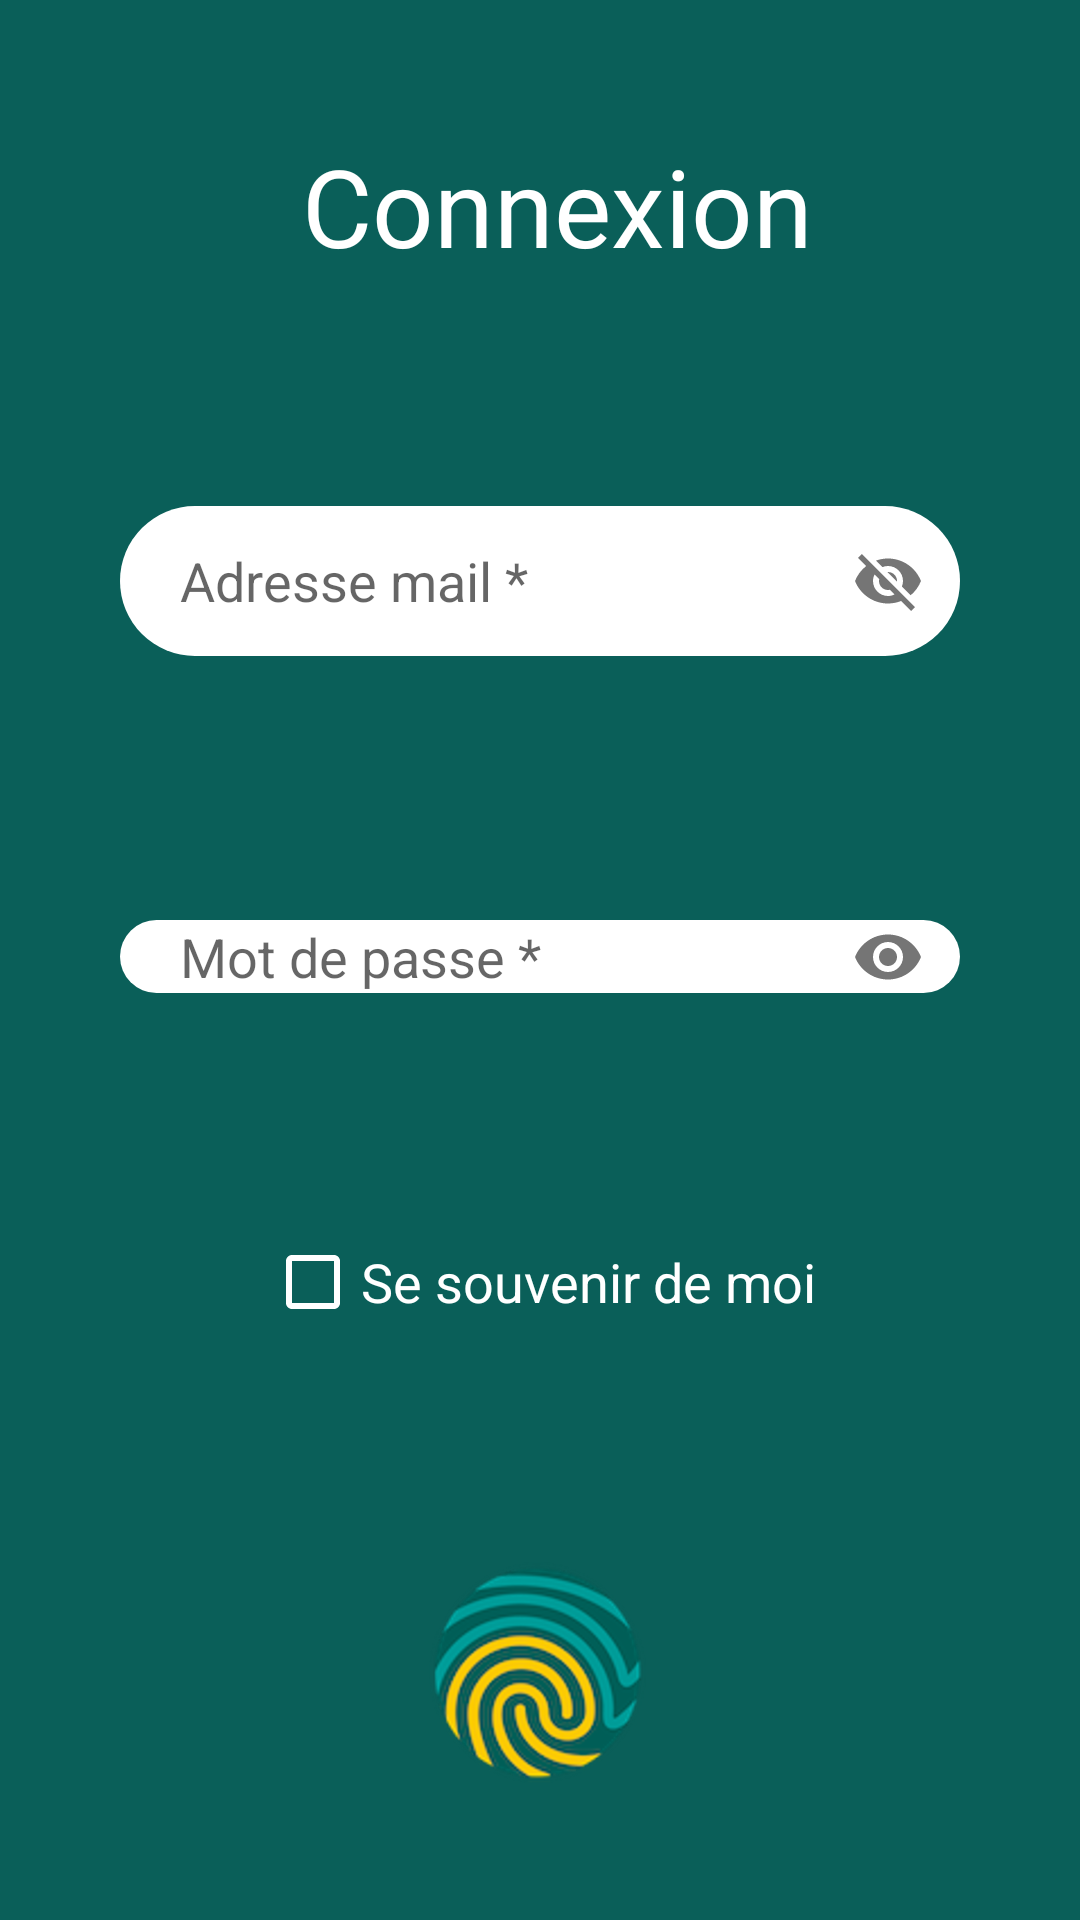

Icon bounding boxes for this 1080px×1920px phone screenshot, format {"left": x1, "top": y1, "right": x2, "bottom": y2}:
empreinte: {"left": 435, "top": 1575, "right": 640, "bottom": 1778}
